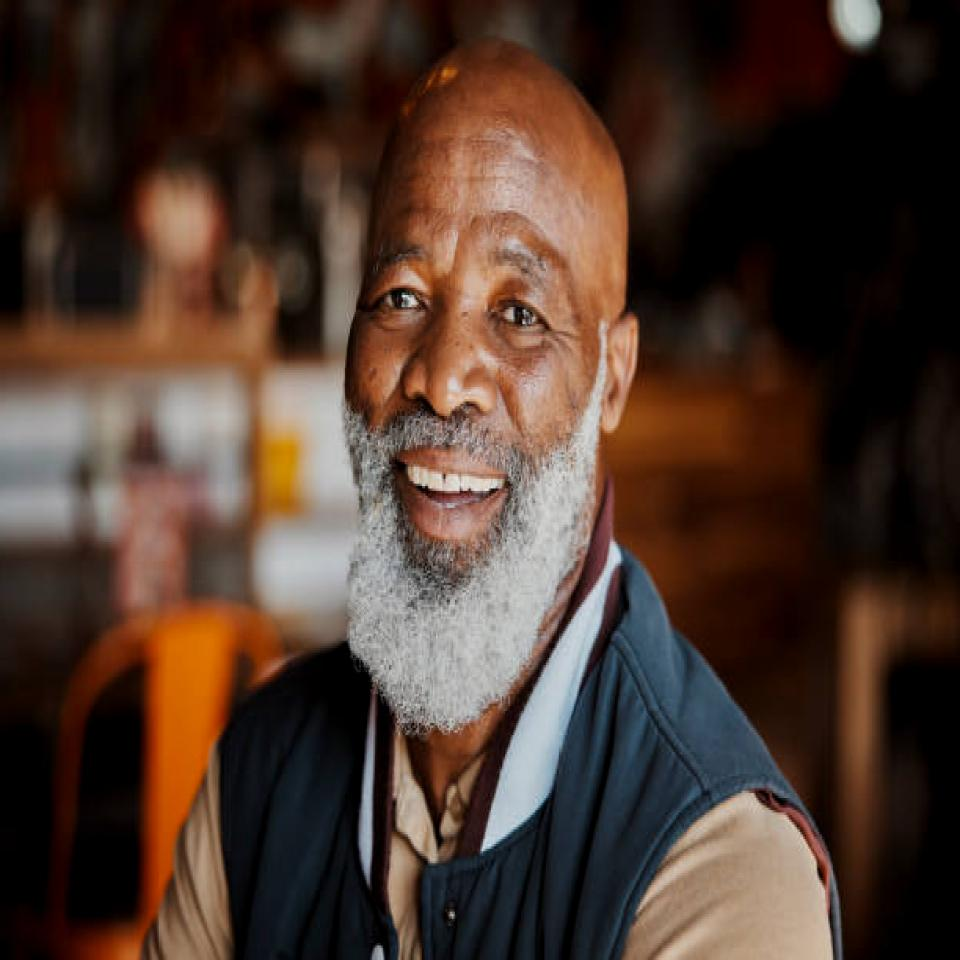Happiness: (346, 70, 606, 602)
